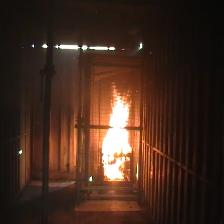fire: (100, 97, 133, 178)
